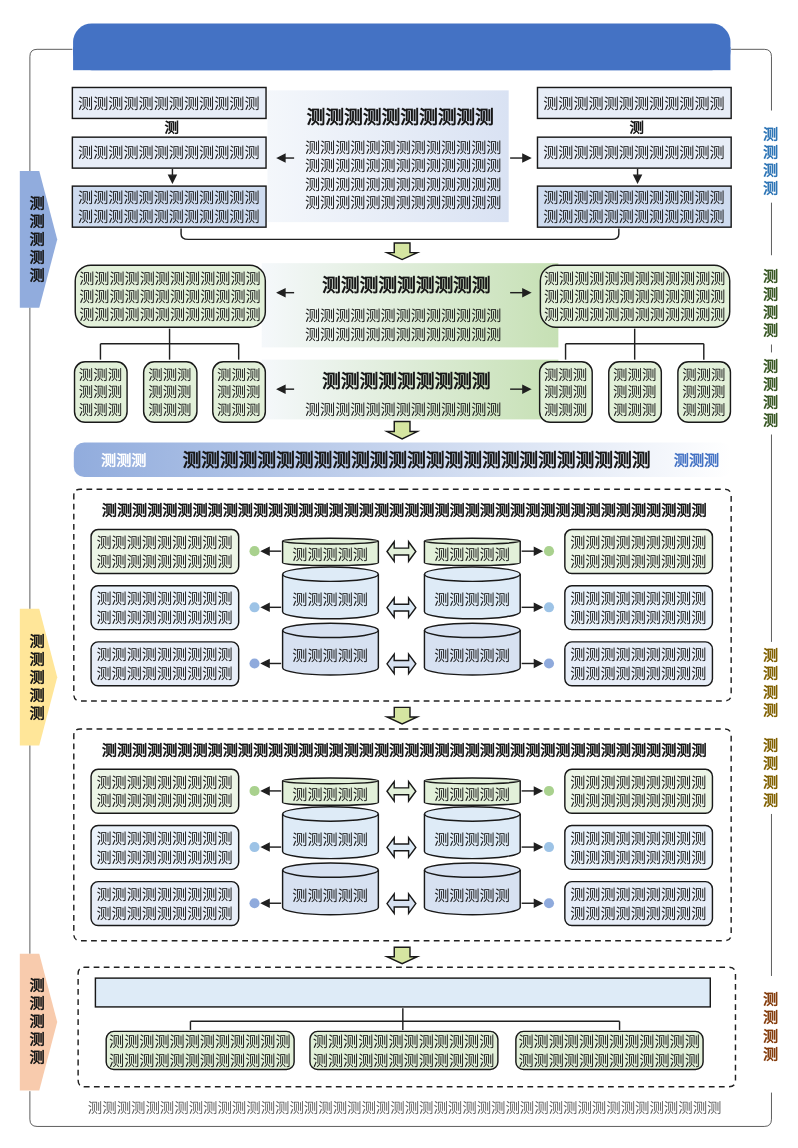
The diagram is 798 pixels wide and 1148 high, and some of its shapes have lost their labels. Each missing label, with the centre of its shape:
测测测测测测测测测测测测测测测测测测测测测测测测测测测测测: (x=401, y=58)
测测测测测测测测测测测测测测测测测测测测测测测测测测测测测测测测: (x=402, y=992)
